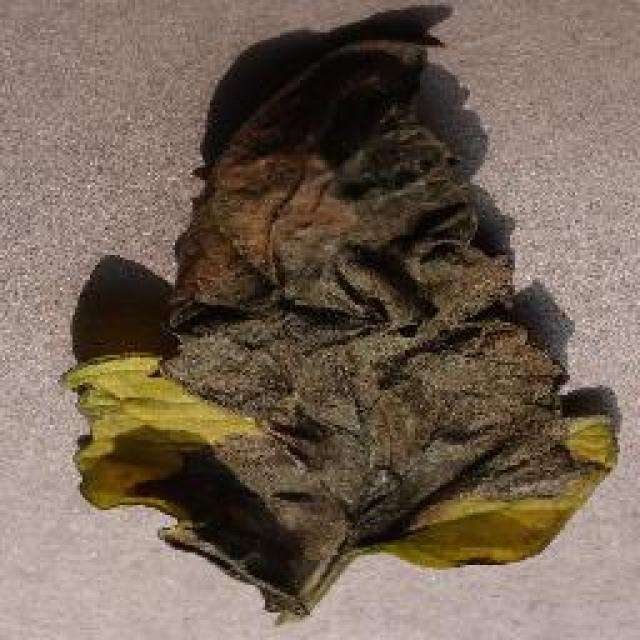Tomato late blight leaf: (55, 28, 617, 622)
